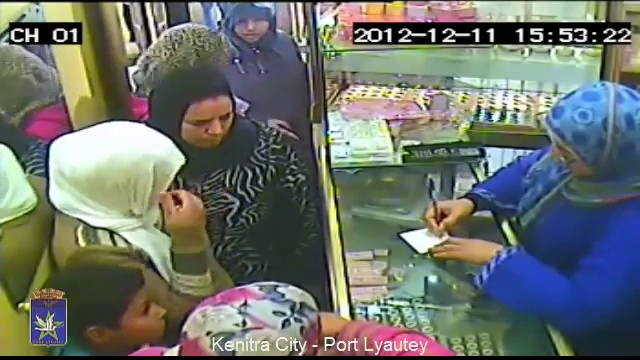face: (110, 287, 167, 345), (185, 97, 233, 150), (234, 12, 269, 41)
